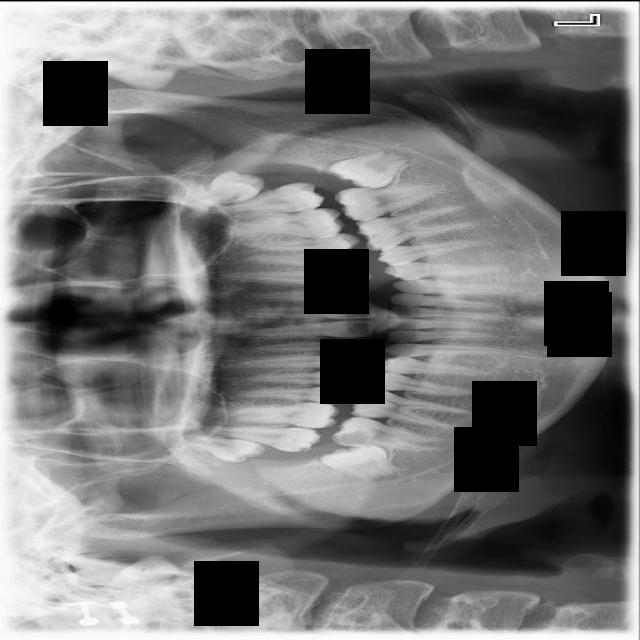3M ESPE Implant: (180, 434, 266, 464)
73: (572, 31, 587, 48)
BioHorizons Implant: (210, 178, 326, 226)
BioLife Implant: (180, 162, 267, 213)
Biomet 3i Implant: (325, 145, 414, 197)
Blue Sky Bio Implant: (333, 182, 449, 221)
Caries: (203, 423, 322, 453)
Implant: (330, 413, 445, 453)
Keystone Dental Implant: (321, 442, 397, 480)
